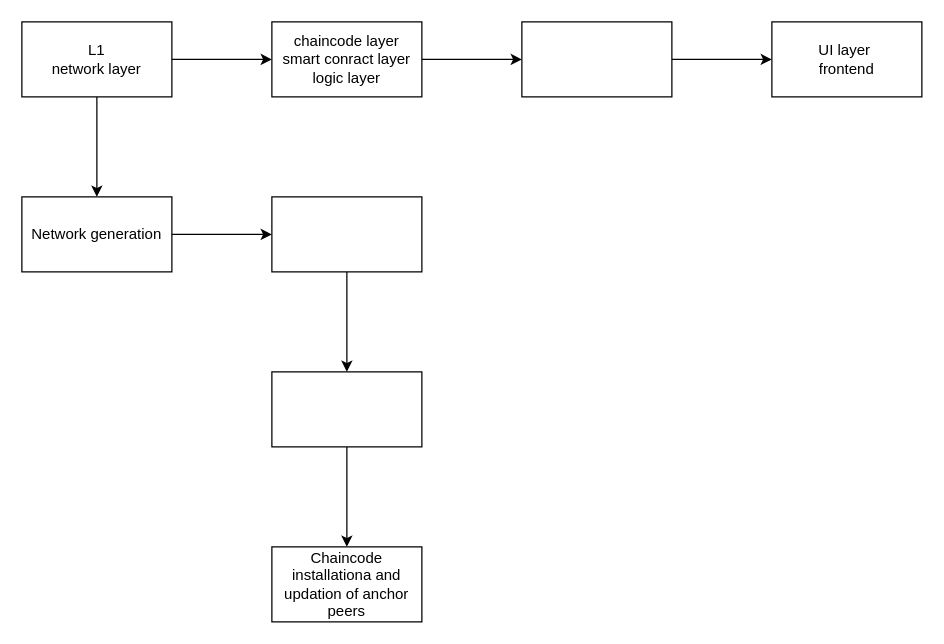
The diagram is 944 pixels wide and 644 high, and some of its shapes have lost their labels. Each missing label, with the box of its shape:
application layer API layer: (521, 21, 672, 97)
channel-artifcats generation: (271, 196, 422, 272)
Docker setup: (271, 371, 422, 447)
